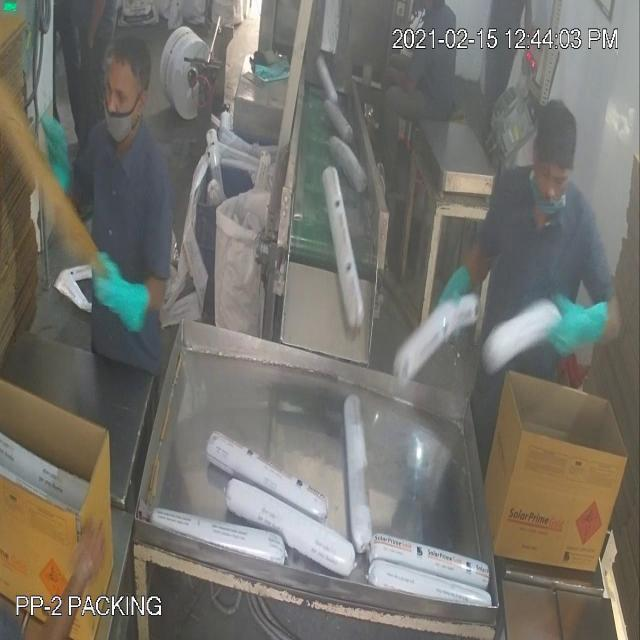Gloves: (61, 39, 582, 326)
